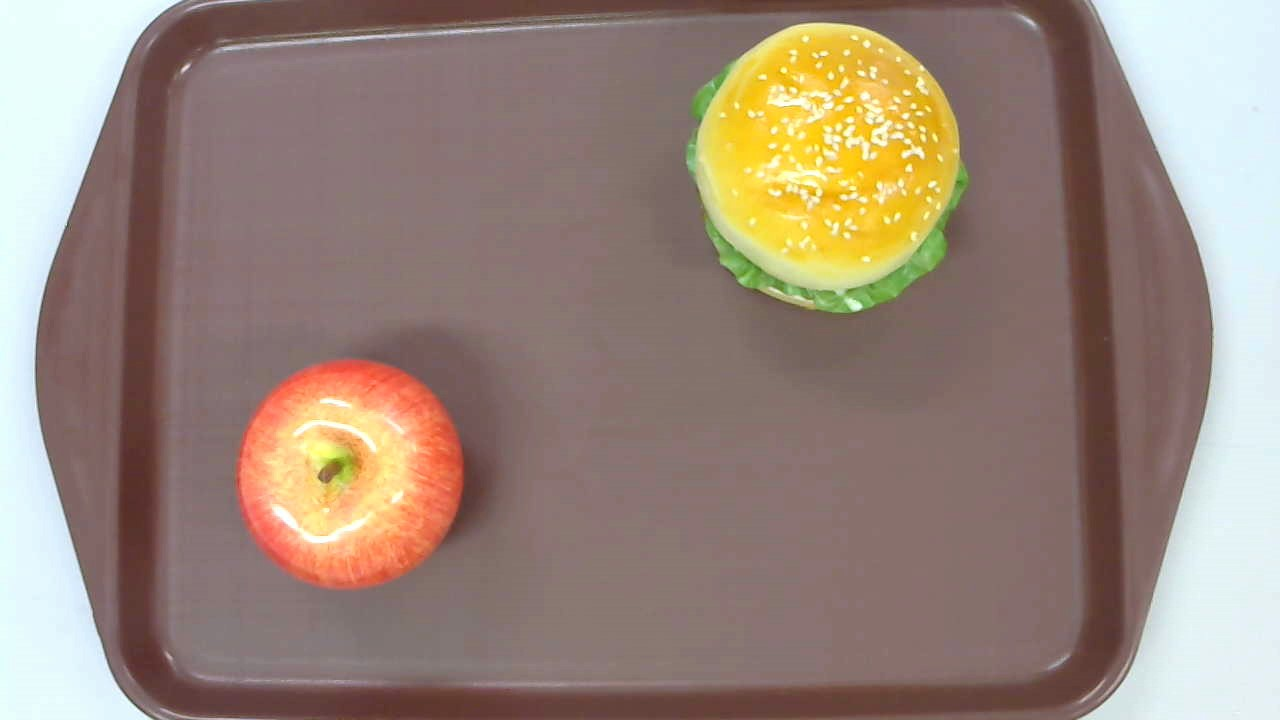hamburger: (684, 20, 970, 313)
red apple: (236, 358, 467, 589)
